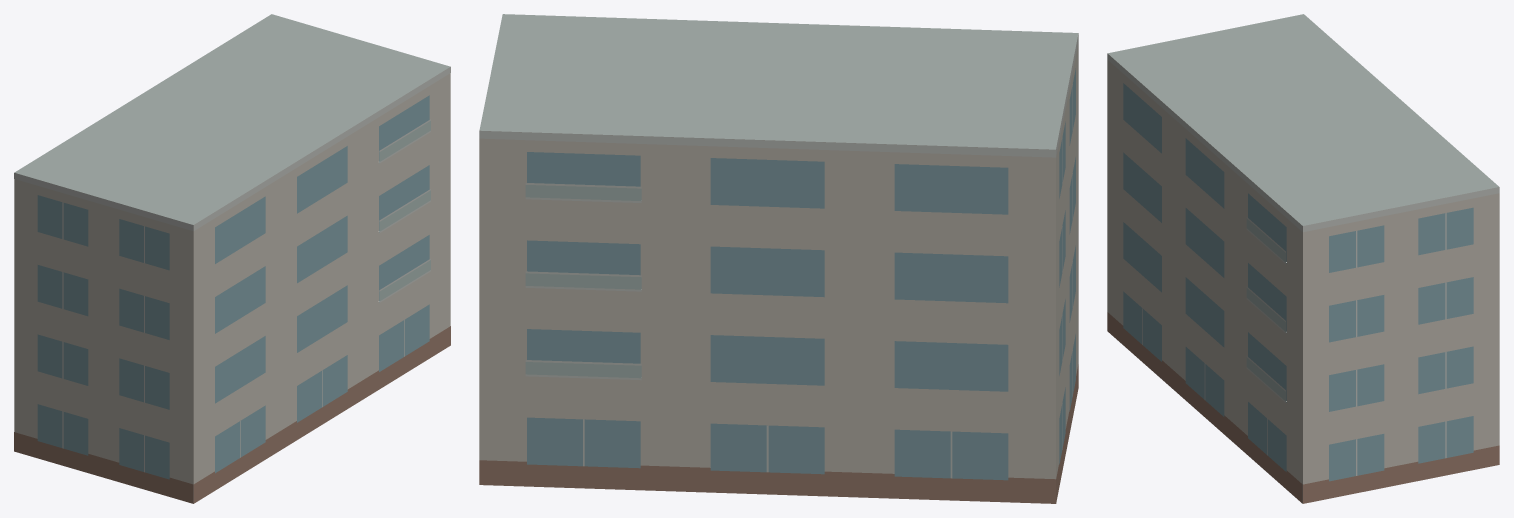
File: survey-upis-32746739.glb
3 renders of one model, left to right at view 1: azimuth 30°, elevation 25°; view 2: azimuth 150°, elevation 25°; view 3: azimuth 270°, elevation 25°, orthographic. The views are drawn at different scales.
Parts seen in each view (by area): view 1: survey-upis-32746739.tmp; view 2: survey-upis-32746739.tmp; view 3: survey-upis-32746739.tmp.
Boxes of the visible parts, <box> form: survey-upis-32746739.tmp: <box>14,14,450,503</box>; survey-upis-32746739.tmp: <box>479,14,1078,503</box>; survey-upis-32746739.tmp: <box>1107,14,1499,503</box>.
Bounding box in the file's own units: 17.85 × 10.9 × 13.95.
